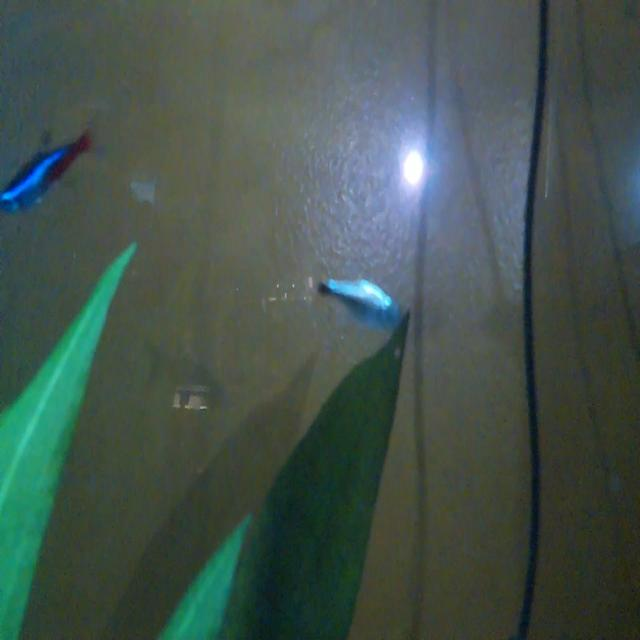fish: (1, 129, 90, 215), (315, 261, 405, 340)
